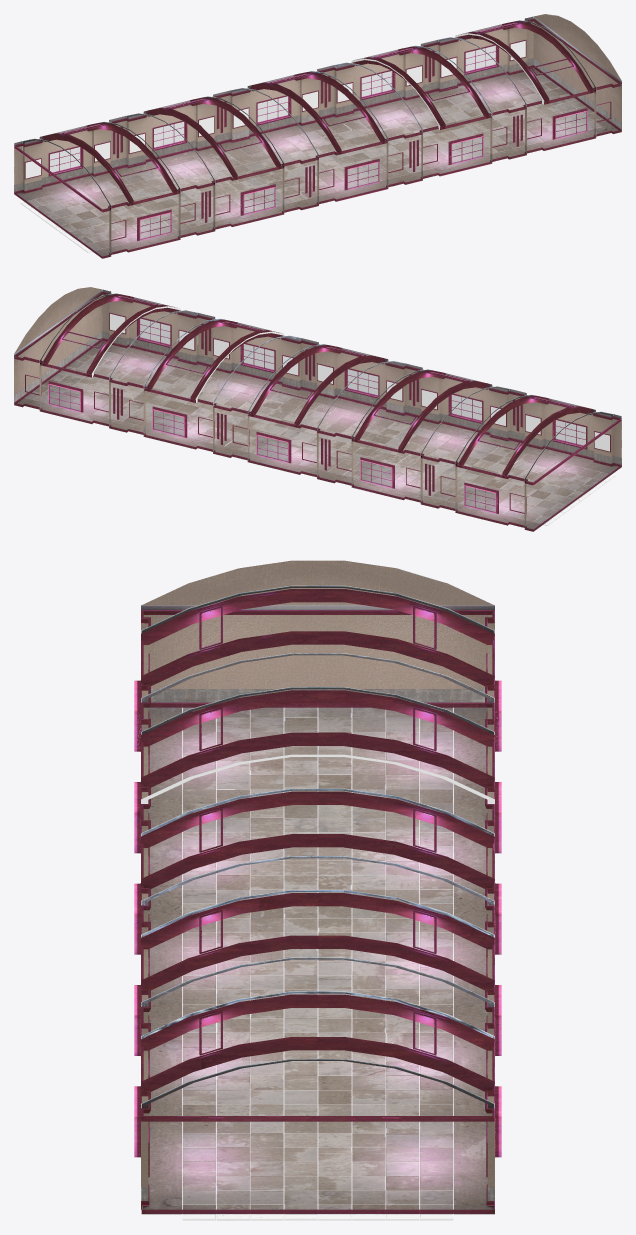
File: house-4.glb
3 views of the same model, one above another, from view 1: azimuth 30°, elevation 25°; view 2: azimuth 150°, elevation 25°; view 3: azimuth 270°, elevation 25° (orthographic). The views are drawn at different scales.
Visible parts, largest first — view 1: floor_001, wood.003, qiang1, glass, qiang2, ding.001; view 2: floor_001, wood.003, qiang1, glass, qiang2, ding.001; view 3: floor_001, wood.003, qiang1, ding.001, qiang2.
Part boxes in pixels (x1,y1,x2,y2): floor_001: [14, 68, 621, 258]; wood.003: [14, 19, 621, 258]; qiang1: [14, 14, 621, 246]; glass: [50, 45, 586, 239]; qiang2: [14, 58, 621, 256]; ding.001: [14, 16, 621, 209]; floor_001: [14, 341, 621, 531]; wood.003: [14, 292, 621, 531]; qiang1: [14, 287, 621, 519]; glass: [49, 318, 585, 512]; qiang2: [14, 331, 621, 529]; ding.001: [14, 289, 621, 482]; floor_001: [141, 707, 494, 1220]; wood.003: [134, 589, 501, 1213]; qiang1: [141, 560, 494, 1186]; ding.001: [141, 585, 494, 1108]; qiang2: [141, 689, 494, 1200].
Bounding box in the file's own units: 42.91 × 5.76 × 12.91.
27 materials, 6 textured.
